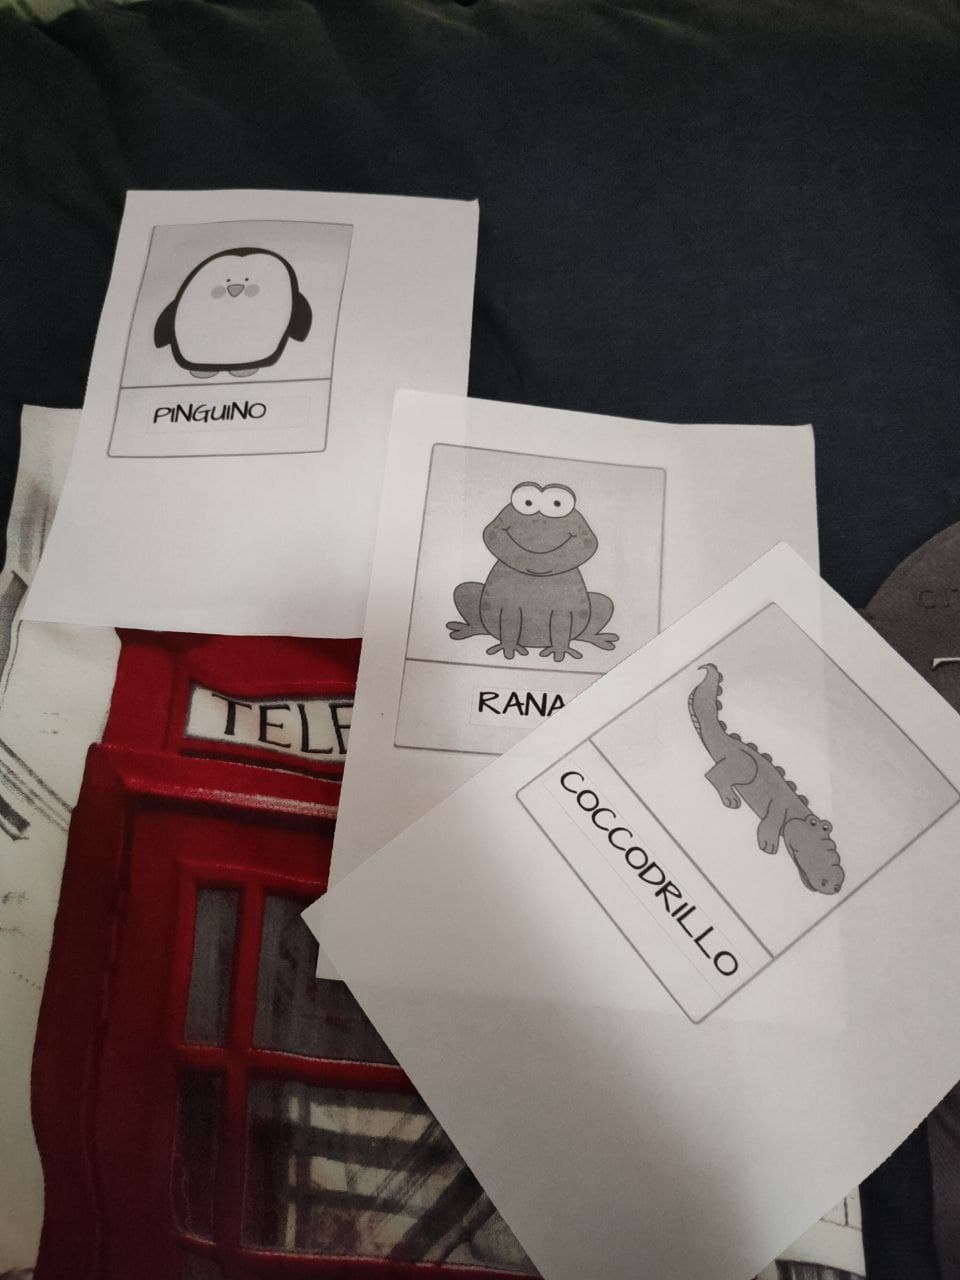coccodrillo: (529, 677, 875, 984)
pinguino: (147, 227, 331, 448)
rana: (432, 443, 651, 715)
